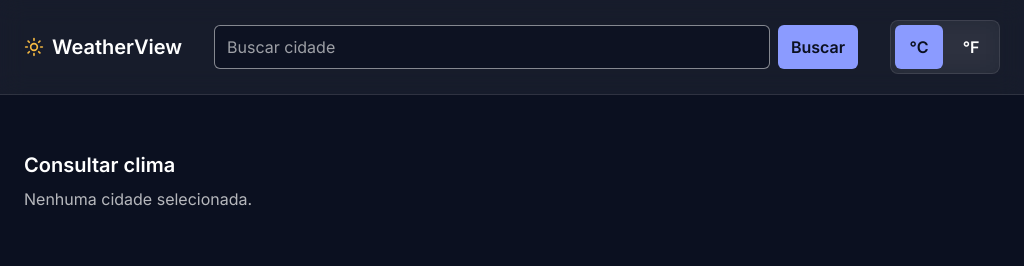
Test: App › ignora respostas de buscas anteriores que chegam depois da atual
In the search field: (492, 47) [214,25,770,69], type "Curitiba"
Then press Enter
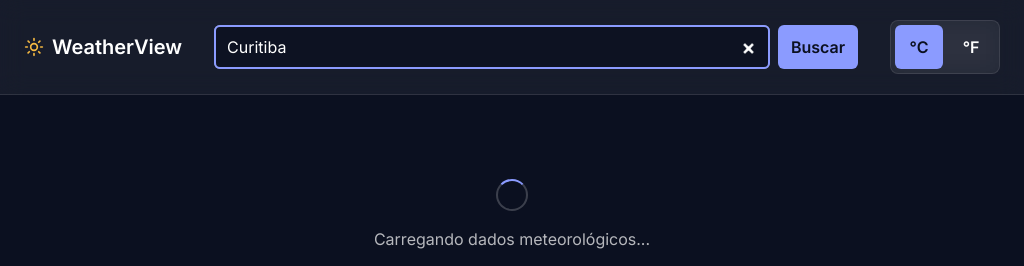
Expected: the message "Carregando dados meteorológicos..." is shown, [374,179,650,249]
Replace the text in the search field with "Outra cidade": (492, 47) [214,25,770,69]
Then press Enter
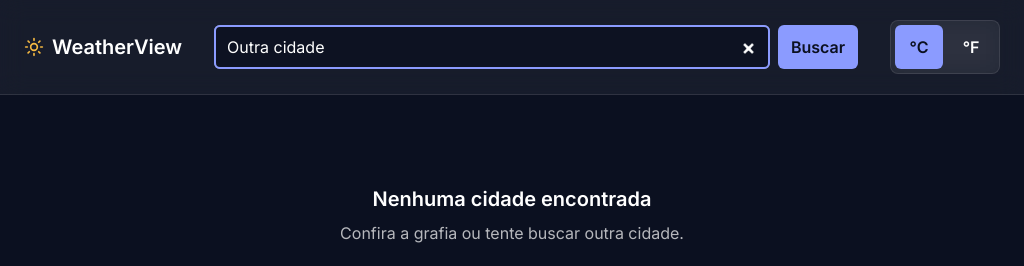
Expected: the button "Curitiba" is not shown
Expected: the heading "Nenhuma cidade encontrada" is shown, [373,185,652,213]
